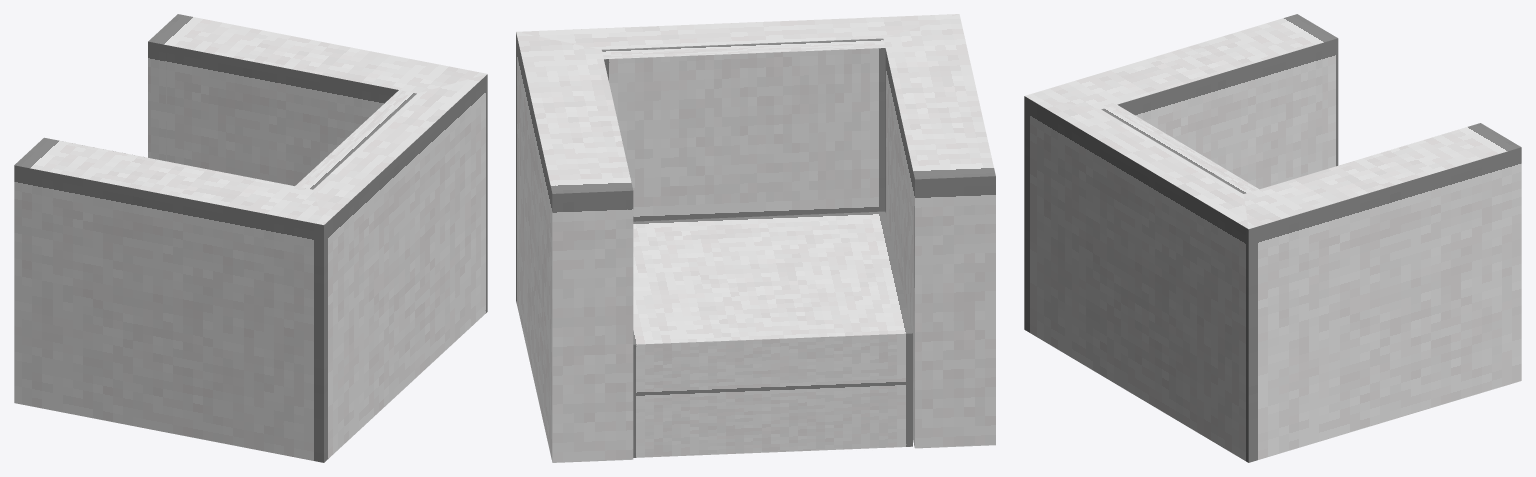
The model's file is blockygon_couch.fbx.
3 renders of one model, left to right at view 1: azimuth 30°, elevation 25°; view 2: azimuth 150°, elevation 25°; view 3: azimuth 270°, elevation 25°, orthographic. The views are drawn at different scales.
Visible parts, largest first — view 1: BLOCKYGON_COUCH; view 2: BLOCKYGON_COUCH; view 3: BLOCKYGON_COUCH.
Part boxes in pixels (x1,y1,x2,y2): BLOCKYGON_COUCH: (14,14,487,462); BLOCKYGON_COUCH: (516,14,995,462); BLOCKYGON_COUCH: (1024,14,1521,462).
Size of the model in its own units: 173 by 90.1 by 169.
Materials: 1 (1 with a texture image).
